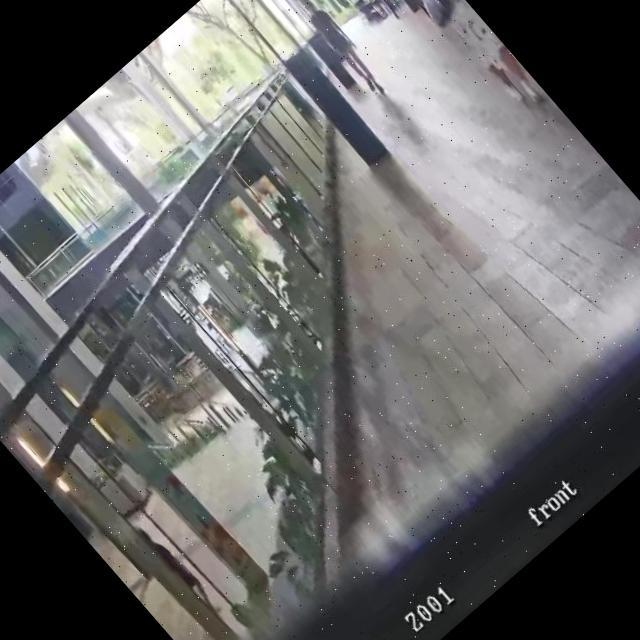person: (353, 0, 549, 119), (293, 0, 394, 101), (136, 519, 224, 619)
